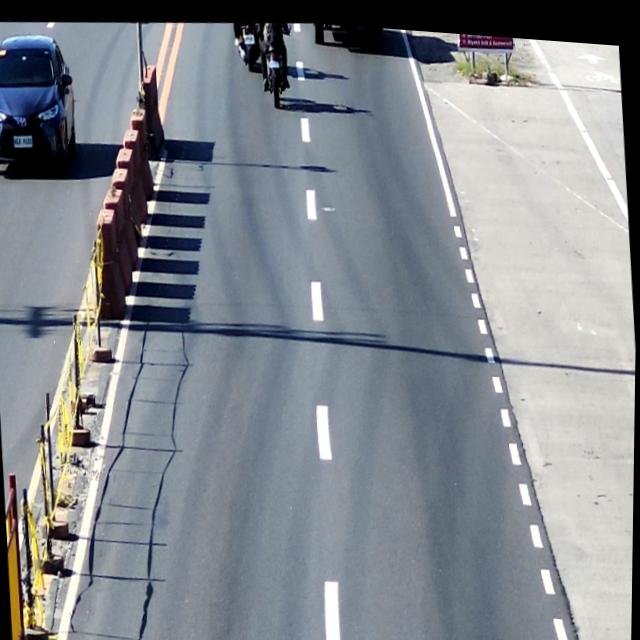Car: (0, 26, 83, 175), (312, 18, 385, 45)
License-Plate: (12, 127, 36, 151), (266, 52, 283, 68), (242, 28, 256, 40)
Motorcycle: (255, 17, 292, 99), (237, 17, 263, 72)
